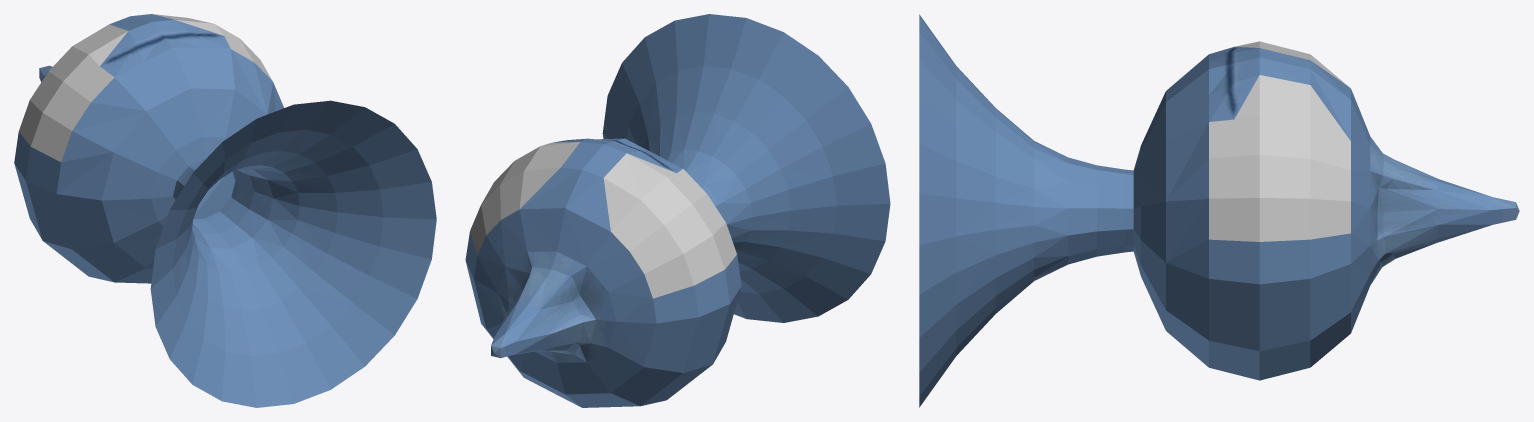
File: BR_Shuppet.obj
3 renders of one model, left to right at view 1: azimuth 30°, elevation 25°; view 2: azimuth 150°, elevation 25°; view 3: azimuth 270°, elevation 25°, orthographic. The views are drawn at different scales.
Parts seen in each view (by area): view 1: kagebouzu; view 2: kagebouzu; view 3: kagebouzu.
Part boxes in pixels (x1=…): kagebouzu: x1=14, y1=14, x2=436, y2=407; kagebouzu: x1=465, y1=14, x2=890, y2=407; kagebouzu: x1=919, y1=14, x2=1519, y2=407.
Bounding box in the file's own units: 3.95 × 3.95 × 6.
